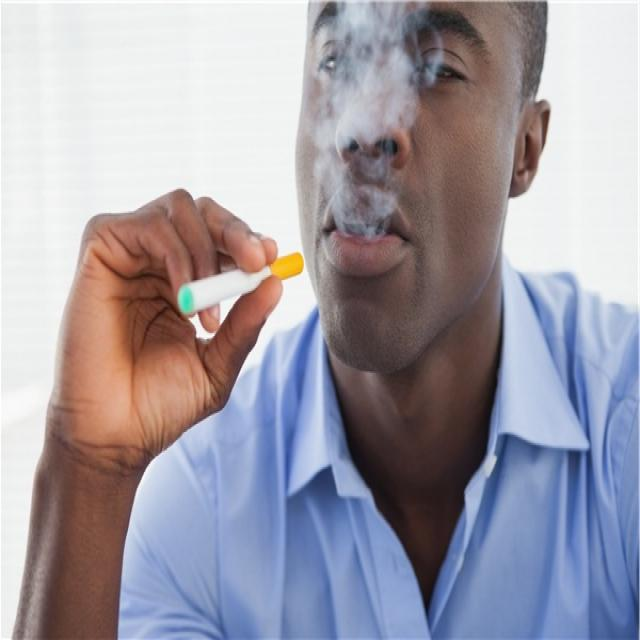smoking: (178, 250, 305, 316)
